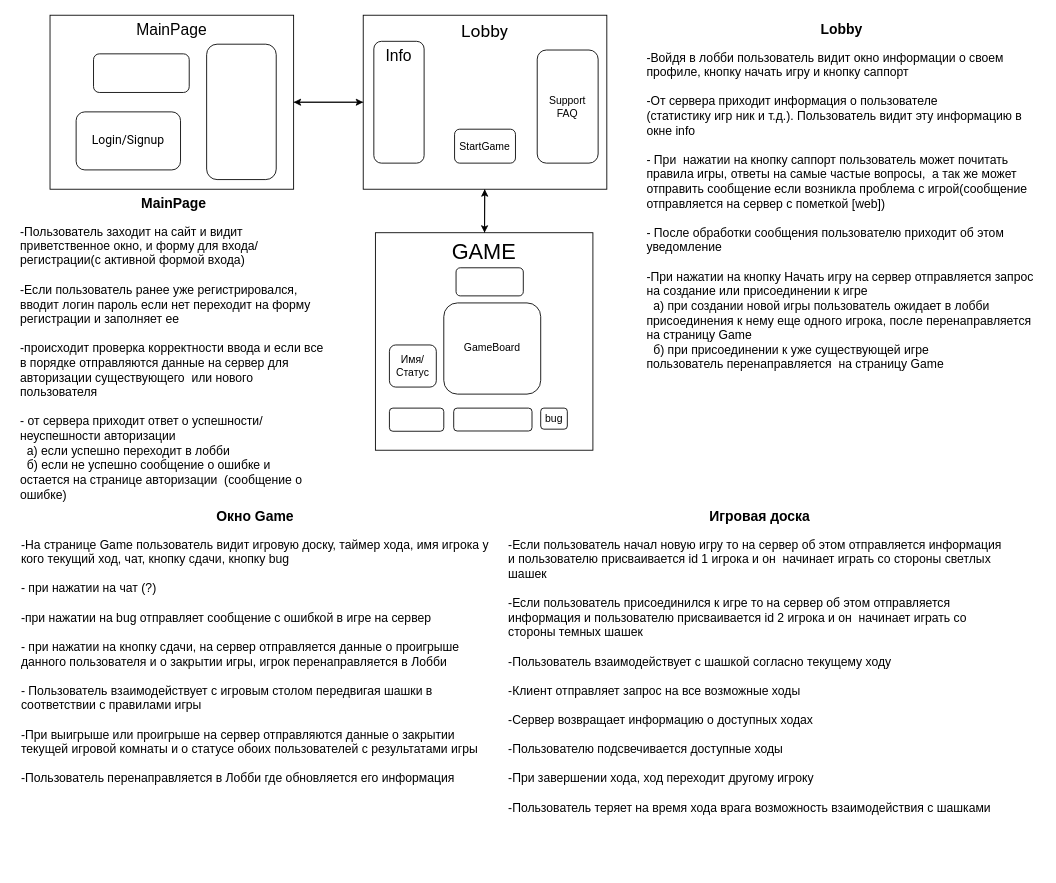
This 1056x883 diagram has some shape labels left out. The centre of each missing label's shape, as x and y in pixels:
Information: the point at 241,111
Welcome Banner: the point at 141,72
Сдаться, выход: the point at 492,419
Таймер хода: the point at 489,281
Чат: the point at 416,419
